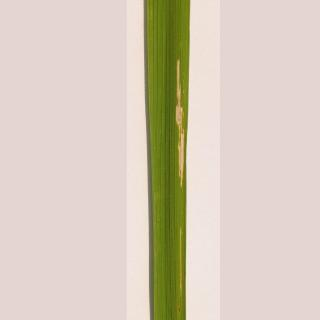Hawar-Daun: (163, 63, 201, 196), (170, 212, 198, 304)
